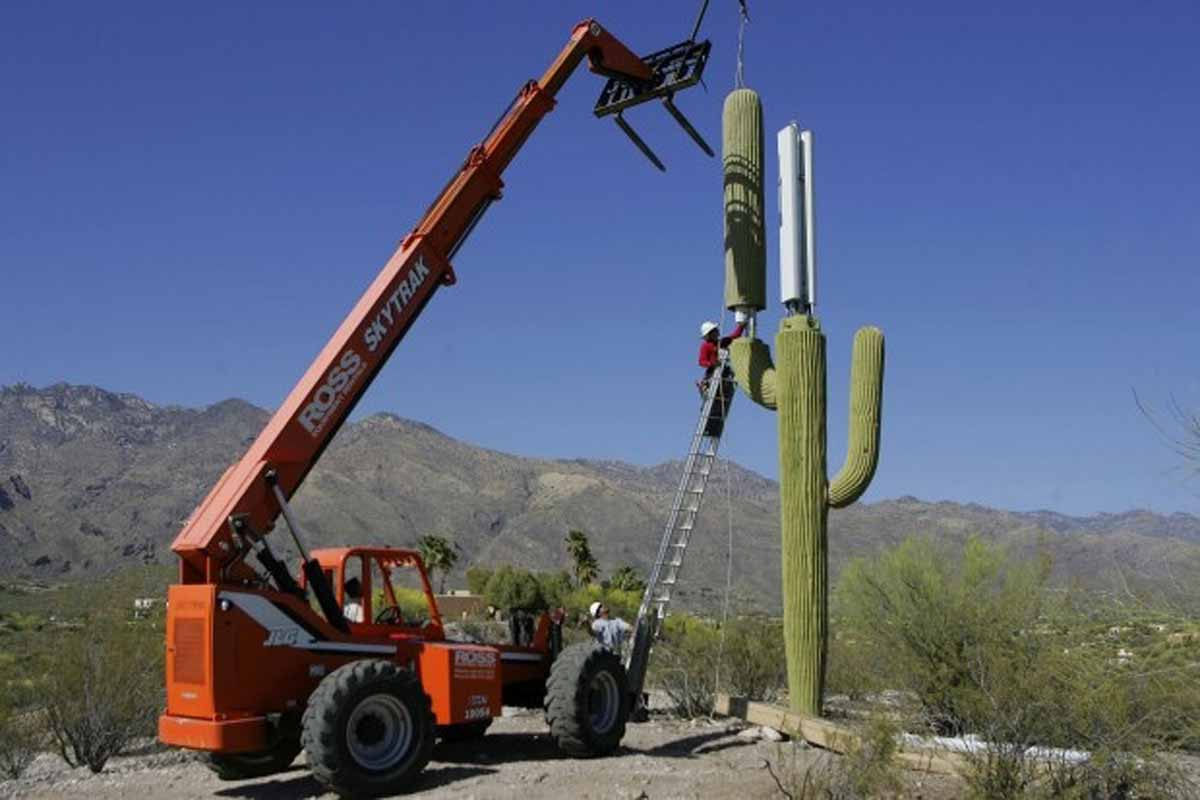sa: (766, 109, 828, 313)
